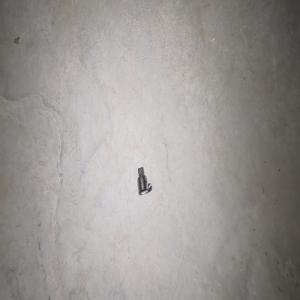MetalPart: (137, 166, 151, 195)
